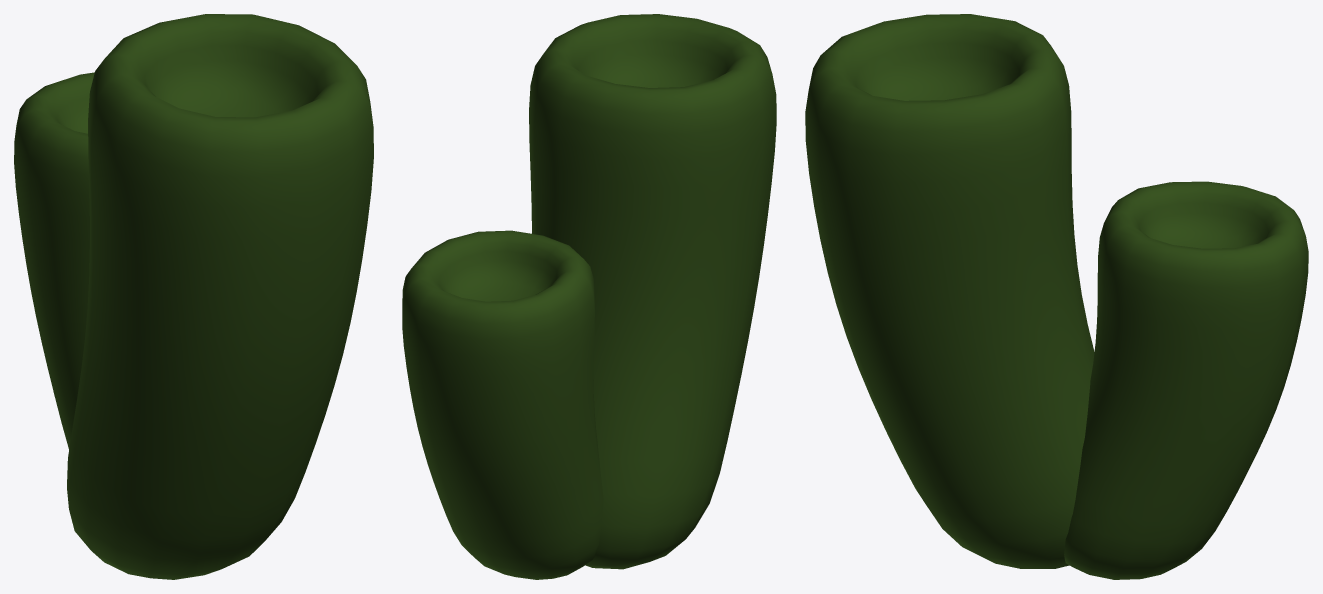
The model's file is coral14.fbx.
3 views of the same model, side by side, from view 1: azimuth 30°, elevation 25°; view 2: azimuth 150°, elevation 25°; view 3: azimuth 270°, elevation 25° (orthographic). The views are drawn at different scales.
Parts seen in each view (by area): view 1: soft coral 004; view 2: soft coral 004; view 3: soft coral 004.
Boxes of the visible parts, left/top/right/bottom form: soft coral 004: left=14, top=14, right=373, bottom=579; soft coral 004: left=402, top=14, right=776, bottom=579; soft coral 004: left=805, top=14, right=1308, bottom=579.
Size of the model in its own units: 265 by 544 by 491.
